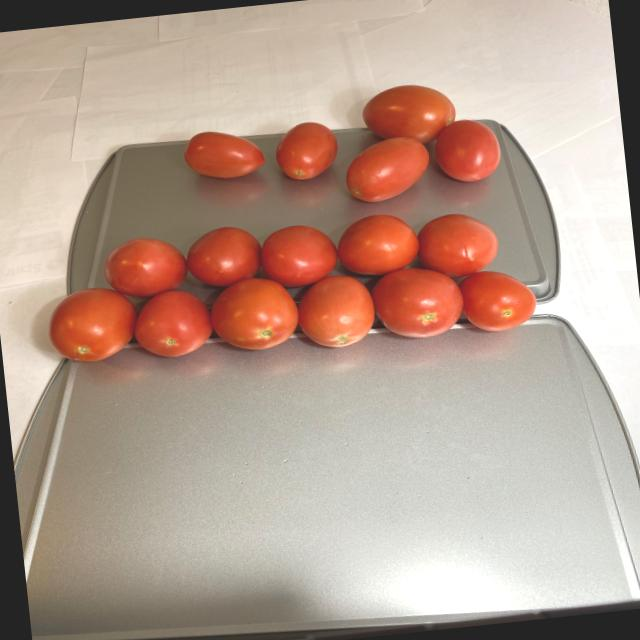tomato: (34, 199, 542, 387), (156, 68, 504, 224)
